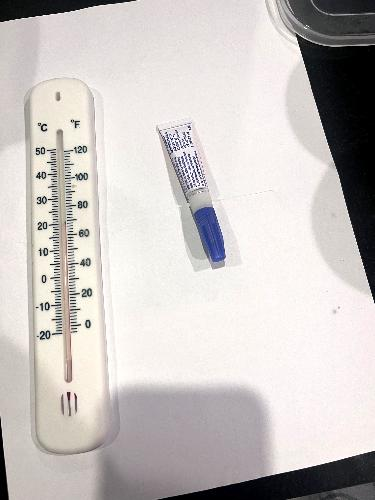thermo: (22, 79, 115, 452)
